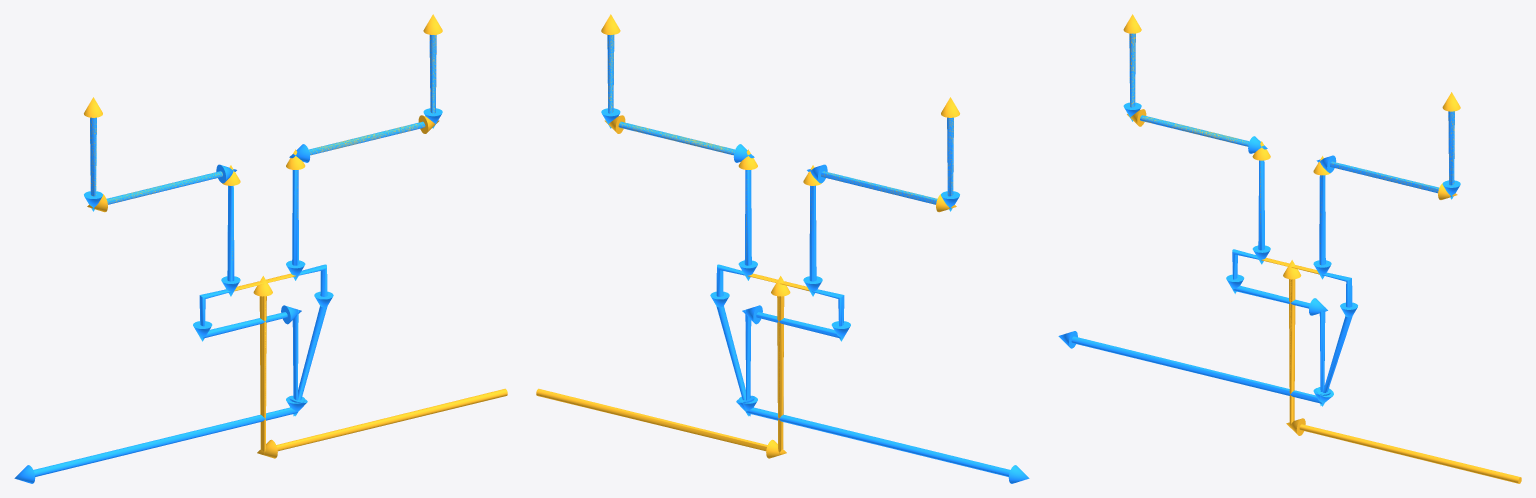
Rendered from four_way_valve_flow.glb.
3 renders of one model, left to right at view 1: azimuth 30°, elevation 25°; view 2: azimuth 150°, elevation 25°; view 3: azimuth 330°, elevation 25°, orthographic. The views are drawn at different scales.
Visible parts, largest first — view 1: B_to_T, A_to_T, P_to_A, P_to_B; view 2: B_to_T, A_to_T, P_to_A, P_to_B; view 3: B_to_T, A_to_T, P_to_A, P_to_B.
Boxes of the visible parts, x1=… form: B_to_T: x1=33, y1=35, x2=442, y2=476; A_to_T: x1=14, y1=117, x2=305, y2=483; P_to_A: x1=84, y1=97, x2=507, y2=458; P_to_B: x1=265, y1=14, x2=442, y2=450; B_to_T: x1=601, y1=34, x2=1010, y2=476; A_to_T: x1=738, y1=117, x2=1029, y2=483; P_to_A: x1=536, y1=97, x2=959, y2=458; P_to_B: x1=601, y1=14, x2=779, y2=449; B_to_T: x1=1071, y1=111, x2=1460, y2=405; A_to_T: x1=1058, y1=33, x2=1331, y2=406; P_to_A: x1=1123, y1=14, x2=1521, y2=483; P_to_B: x1=1290, y1=92, x2=1460, y2=424.
Bounding box in the file's own units: 0.608 × 0.4784 × 0.0208.
